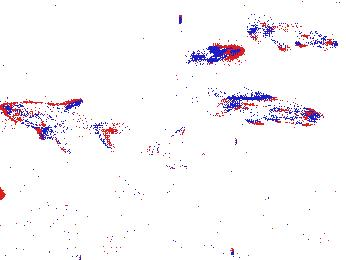X-ray fish: (140, 129, 211, 172), (115, 170, 135, 215)
red belly glassfish: (189, 46, 244, 65)
redtail glassfish: (1, 100, 117, 151), (216, 92, 327, 129), (256, 17, 341, 54)
